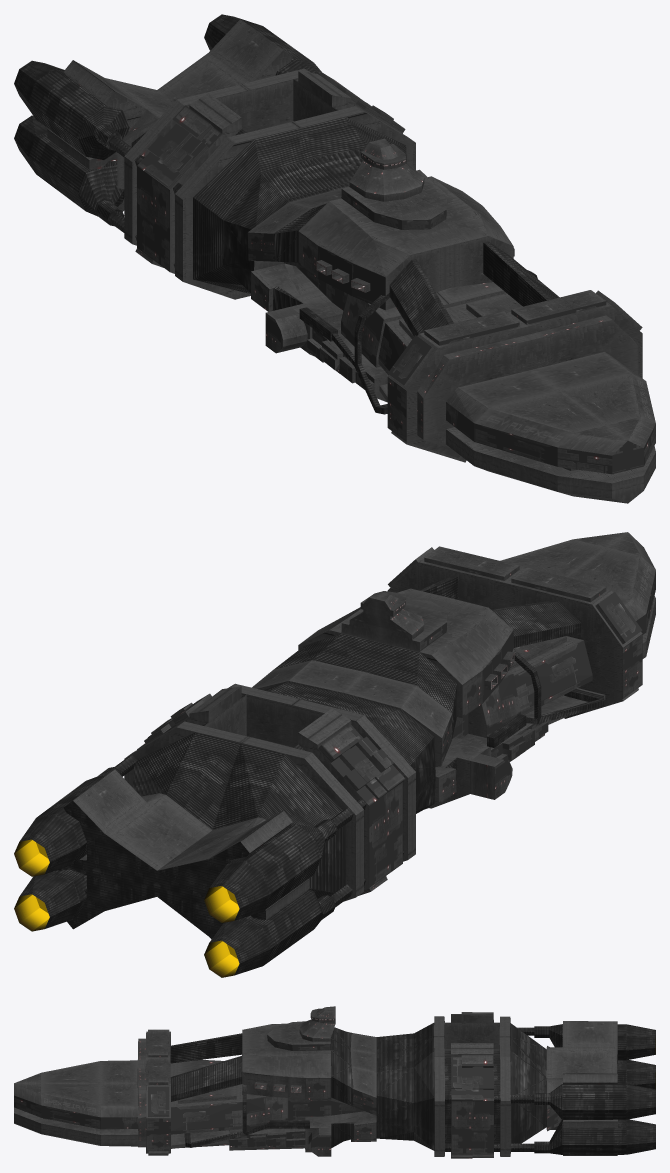
File: capital ship.dae
The picture shows the model from 3 angles, top to bottom: view 1: azimuth 30°, elevation 25°; view 2: azimuth 150°, elevation 25°; view 3: azimuth 270°, elevation 25°; orthographic projection. The views are drawn at different scales.
Parts seen in each view (by area): view 1: CapitalShip; view 2: CapitalShip; view 3: CapitalShip.
Part boxes in pixels (x1,y1,x2,y2): CapitalShip: (14,14,655,503); CapitalShip: (14,532,655,977); CapitalShip: (14,1006,655,1158).
Size of the model in its own units: 5.77 by 20.58 by 4.6.
6 materials, 6 textured.
